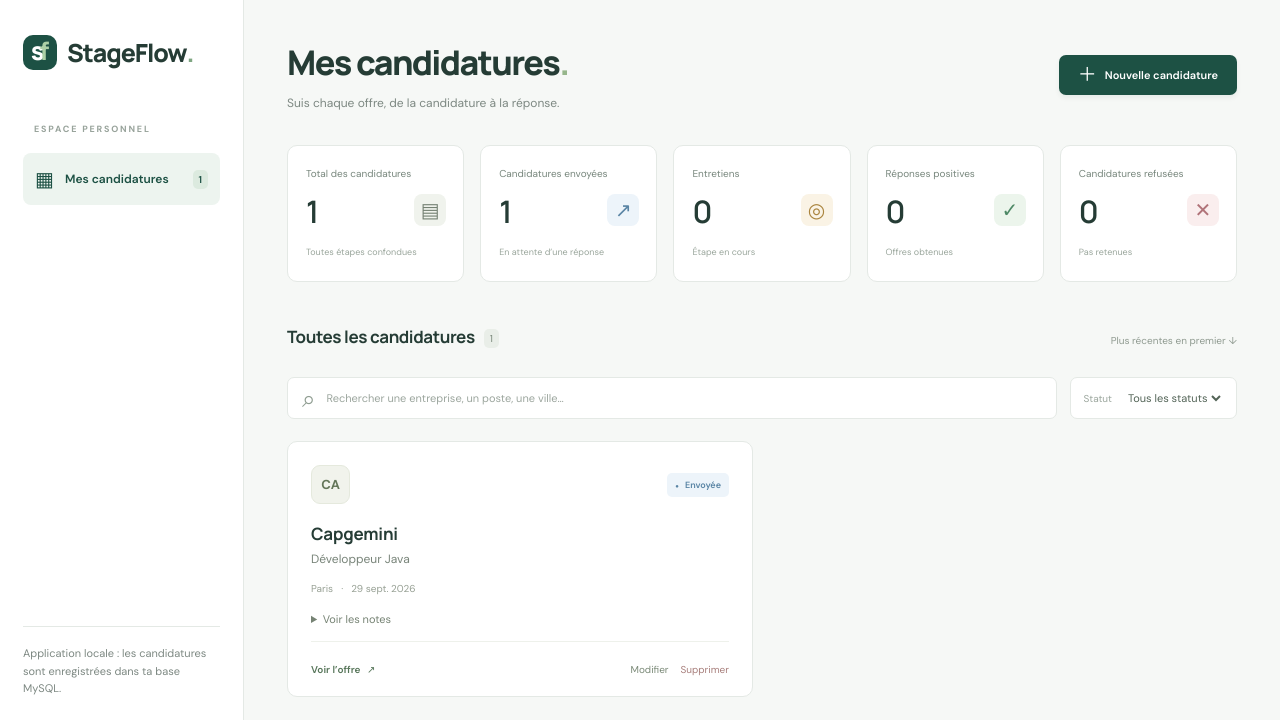
Test: conserve le formulaire si la sauvegarde échoue
(page scrolled)
Expected: the heading "Capgemini" is shown, [311, 522, 398, 545]
Click the button with aria-label "Modifier Capgemini" at coordinates (650, 669), box [630, 658, 668, 680]
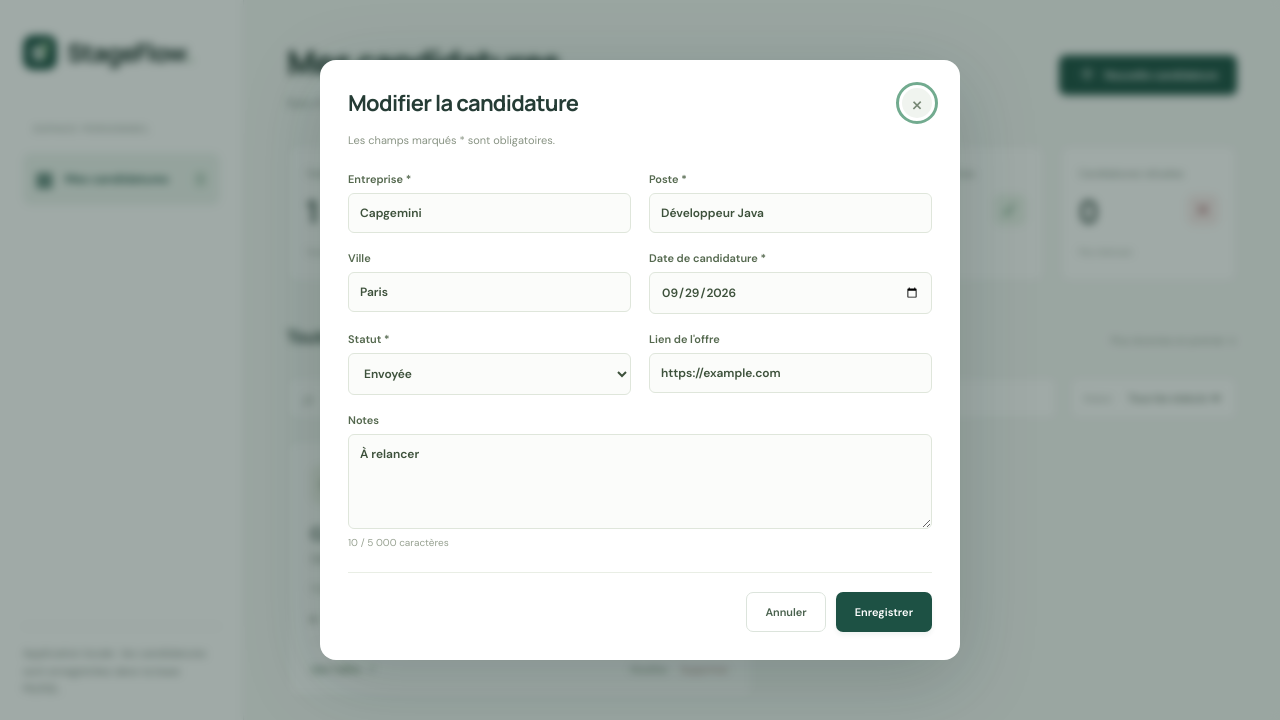
Click the button "Enregistrer" at coordinates (884, 612), box [836, 592, 932, 632]
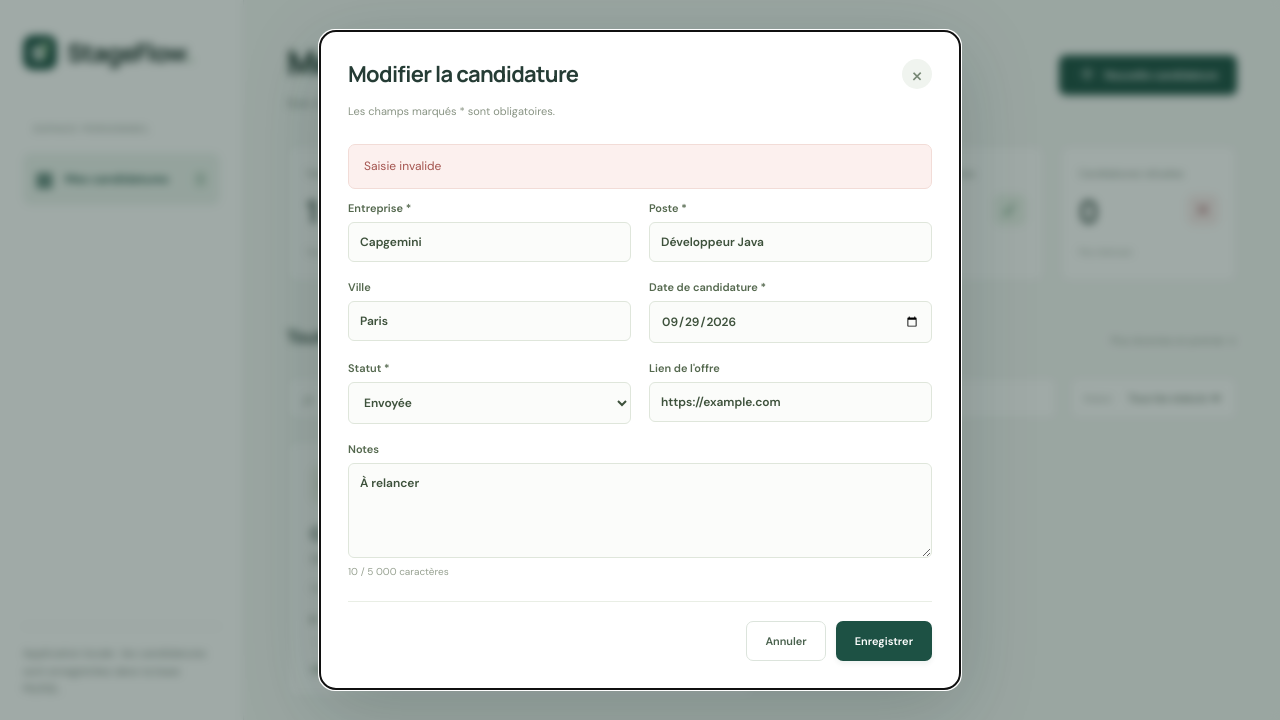
Now the field labelled "Entreprise *" holds "Capgemini", box [348, 222, 631, 262]
Now the message reads "Saisie invalide", box [364, 158, 441, 174]
